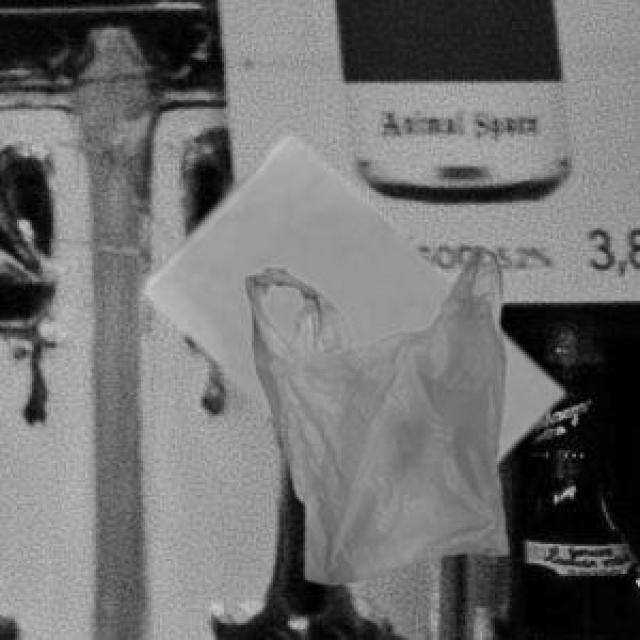paper: (143, 134, 559, 459)
